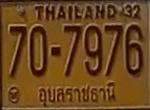0: (29, 26, 47, 76)
6: (125, 24, 143, 75)
7: (64, 25, 82, 76), (104, 24, 122, 74), (9, 26, 26, 74)
9: (84, 25, 102, 75)
UBN: (35, 82, 118, 108)
